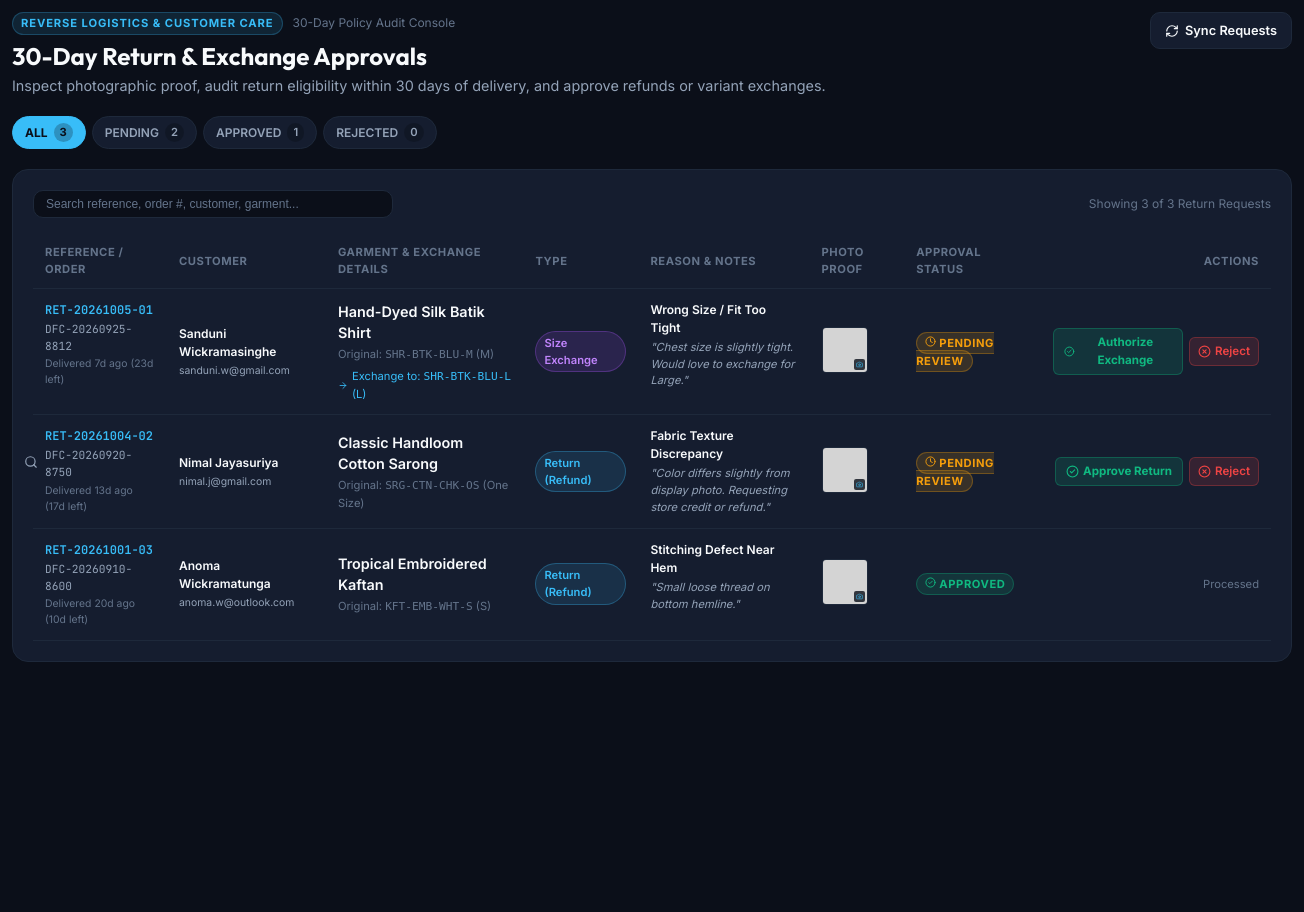
Test case: STORM-FE-019: Admin Order Fulfillment Console & 30-Day Return Approvals › AC3 & AC4: Returns & Exchanges Review Console › approves a pending exchange request and updates row status to APPROVED
This screenshot has width=1304, height=912.
Click the button with test id "approve-return-btn-301".
click(1118, 352)  # box [1053,328,1183,375]
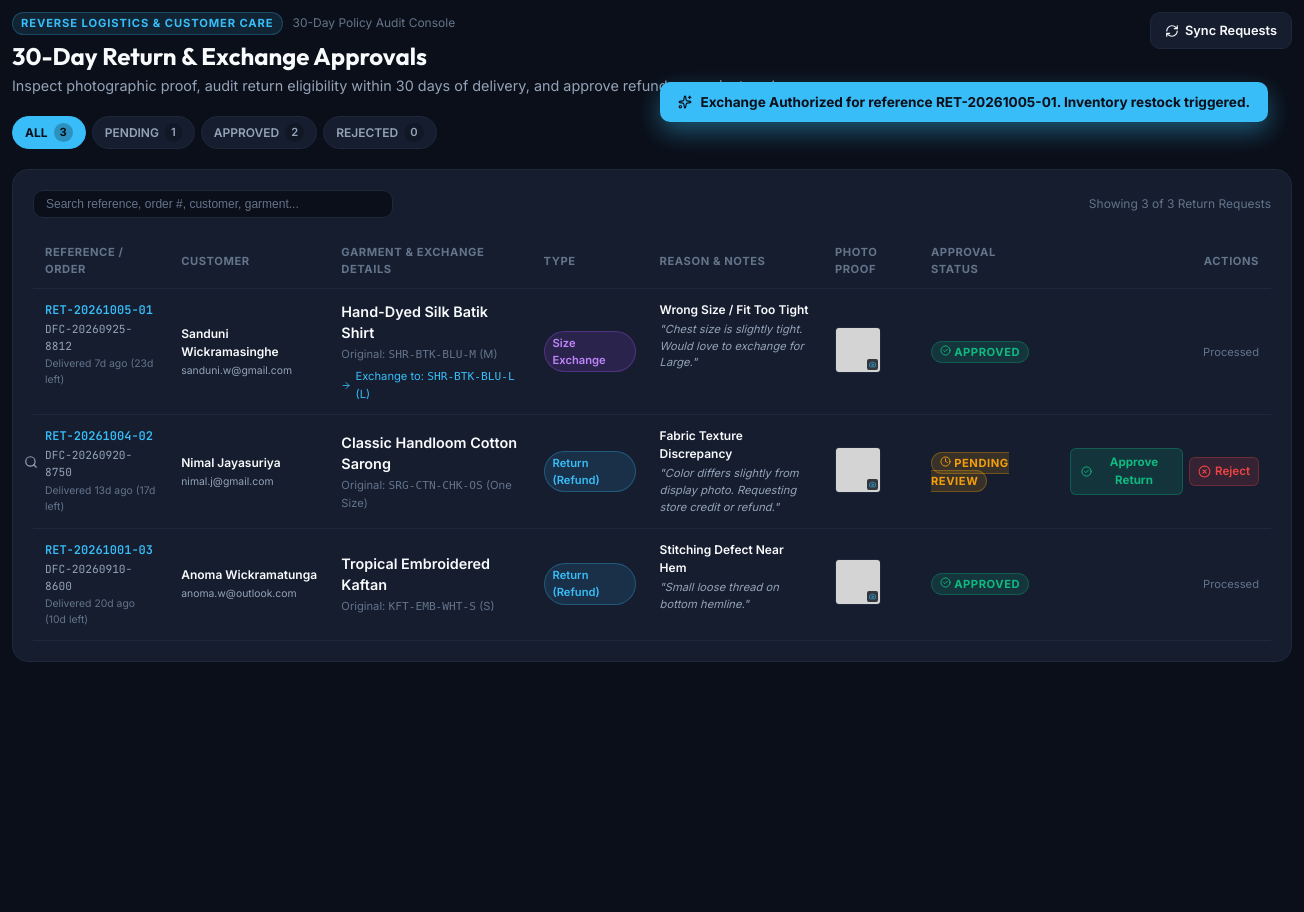
Expected: the cell with test id "return-status-301" reads "APPROVED", [951,345,1020,359]
Expected: the message with test id "returns-toast" shows "Exchange Authorized", [700,94,1250,110]
